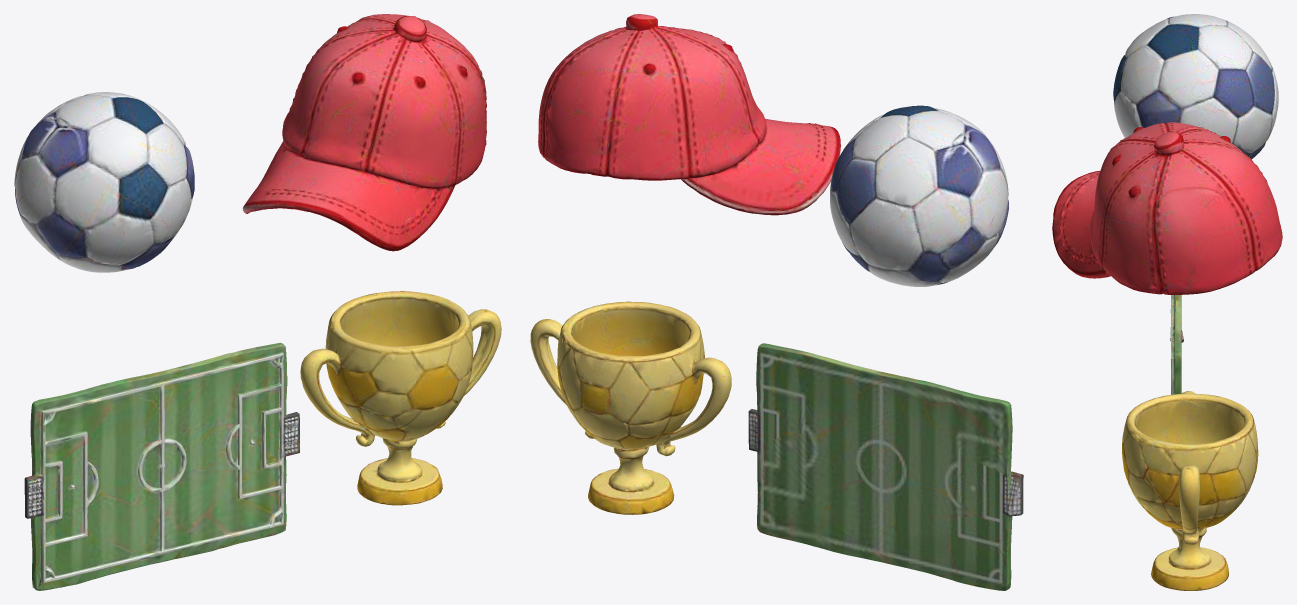
3 views of the same model, side by side, from view 1: azimuth 30°, elevation 25°; view 2: azimuth 150°, elevation 25°; view 3: azimuth 270°, elevation 25° (orthographic). The views are drawn at different scales.
Parts seen in each view (by area): view 1: Mesh 1, Mesh 3, Mesh 2, Mesh 4; view 2: Mesh 1, Mesh 3, Mesh 2, Mesh 4; view 3: Mesh 3, Mesh 4, Mesh 2, Mesh 1.
Boxes of the visible parts, x1,y1,x2,y2 form: Mesh 1: (24,342,299,590); Mesh 3: (242,14,486,251); Mesh 2: (14,92,194,272); Mesh 4: (300,291,501,505); Mesh 1: (748,343,1023,590); Mesh 3: (538,14,840,215); Mesh 2: (830,105,1008,286); Mesh 4: (530,301,731,514); Mesh 3: (1052,122,1282,294); Mesh 4: (1122,391,1258,590); Mesh 2: (1113,14,1278,159); Mesh 1: (1170,295,1183,394).
Bounding box in the file's own units: 1.9 × 1.83 × 0.8512.
Materials: 4 (4 with a texture image).
